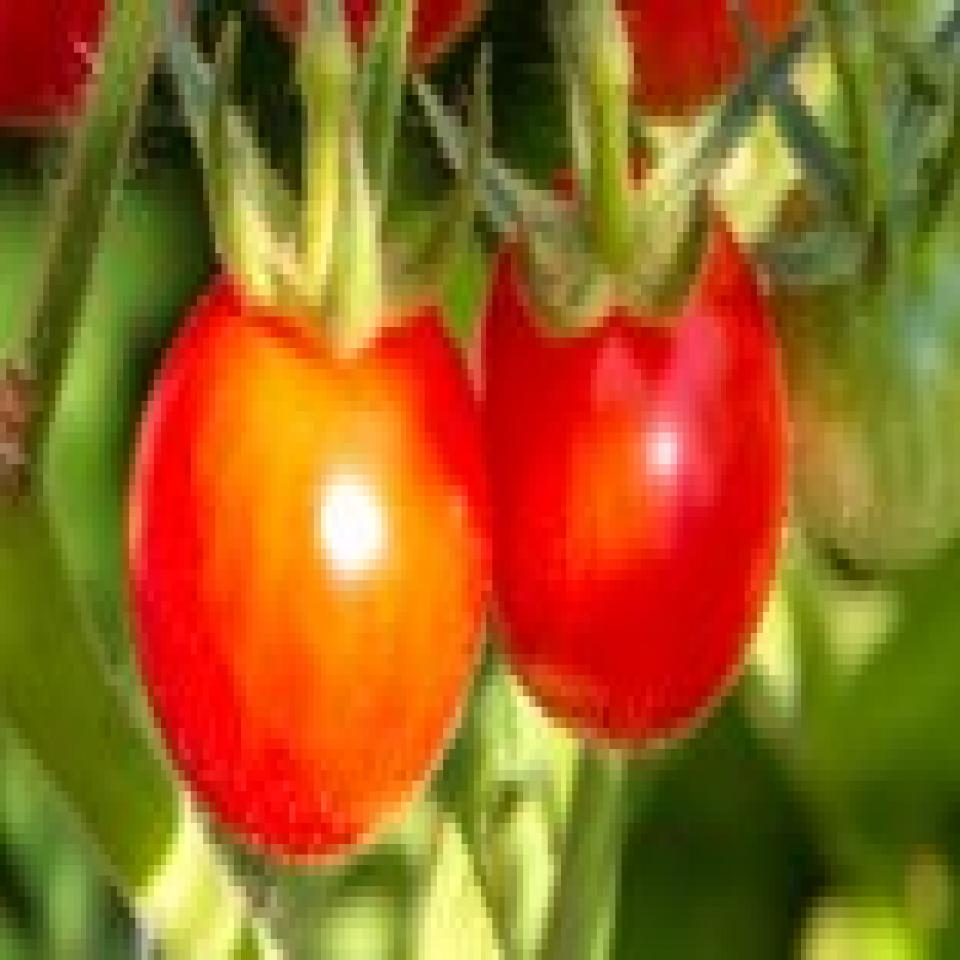Healthy: (485, 190, 770, 732)
